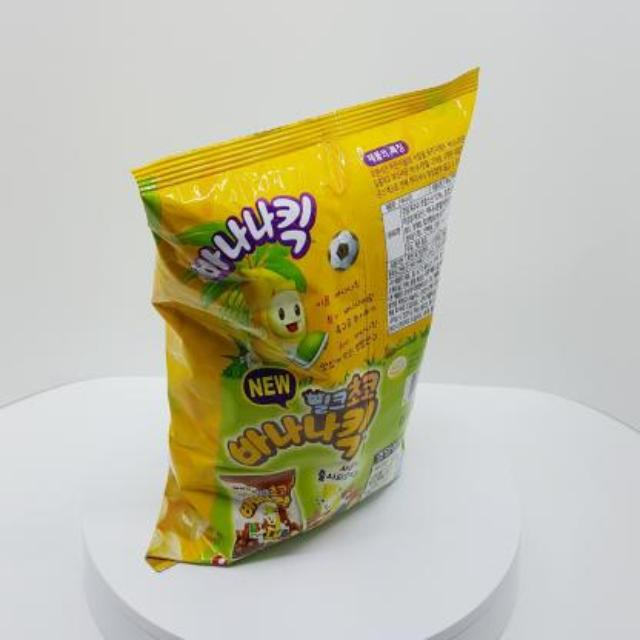snack_bag: (124, 59, 520, 580)
